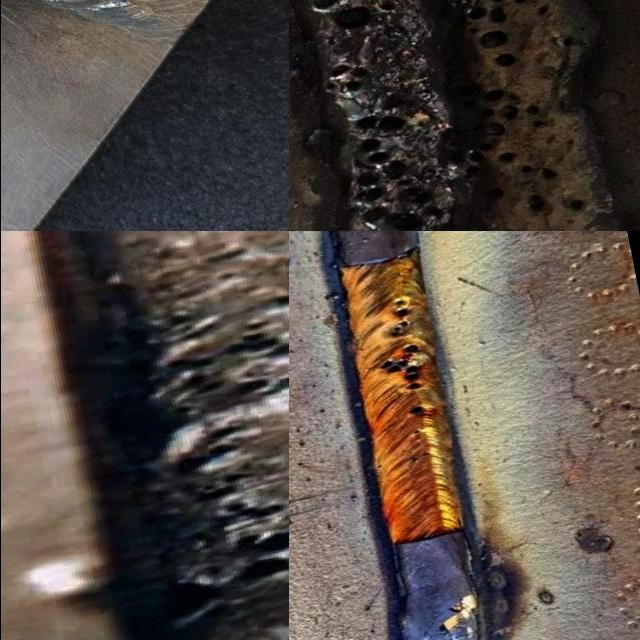defect: (147, 236, 288, 423), (176, 417, 288, 589), (450, 79, 588, 216), (342, 108, 449, 231), (453, 0, 548, 72), (301, 0, 407, 41), (371, 341, 426, 394), (311, 58, 368, 107), (543, 33, 588, 57), (387, 297, 411, 337), (409, 450, 432, 464), (403, 405, 426, 418), (111, 0, 132, 10), (411, 426, 425, 436)
